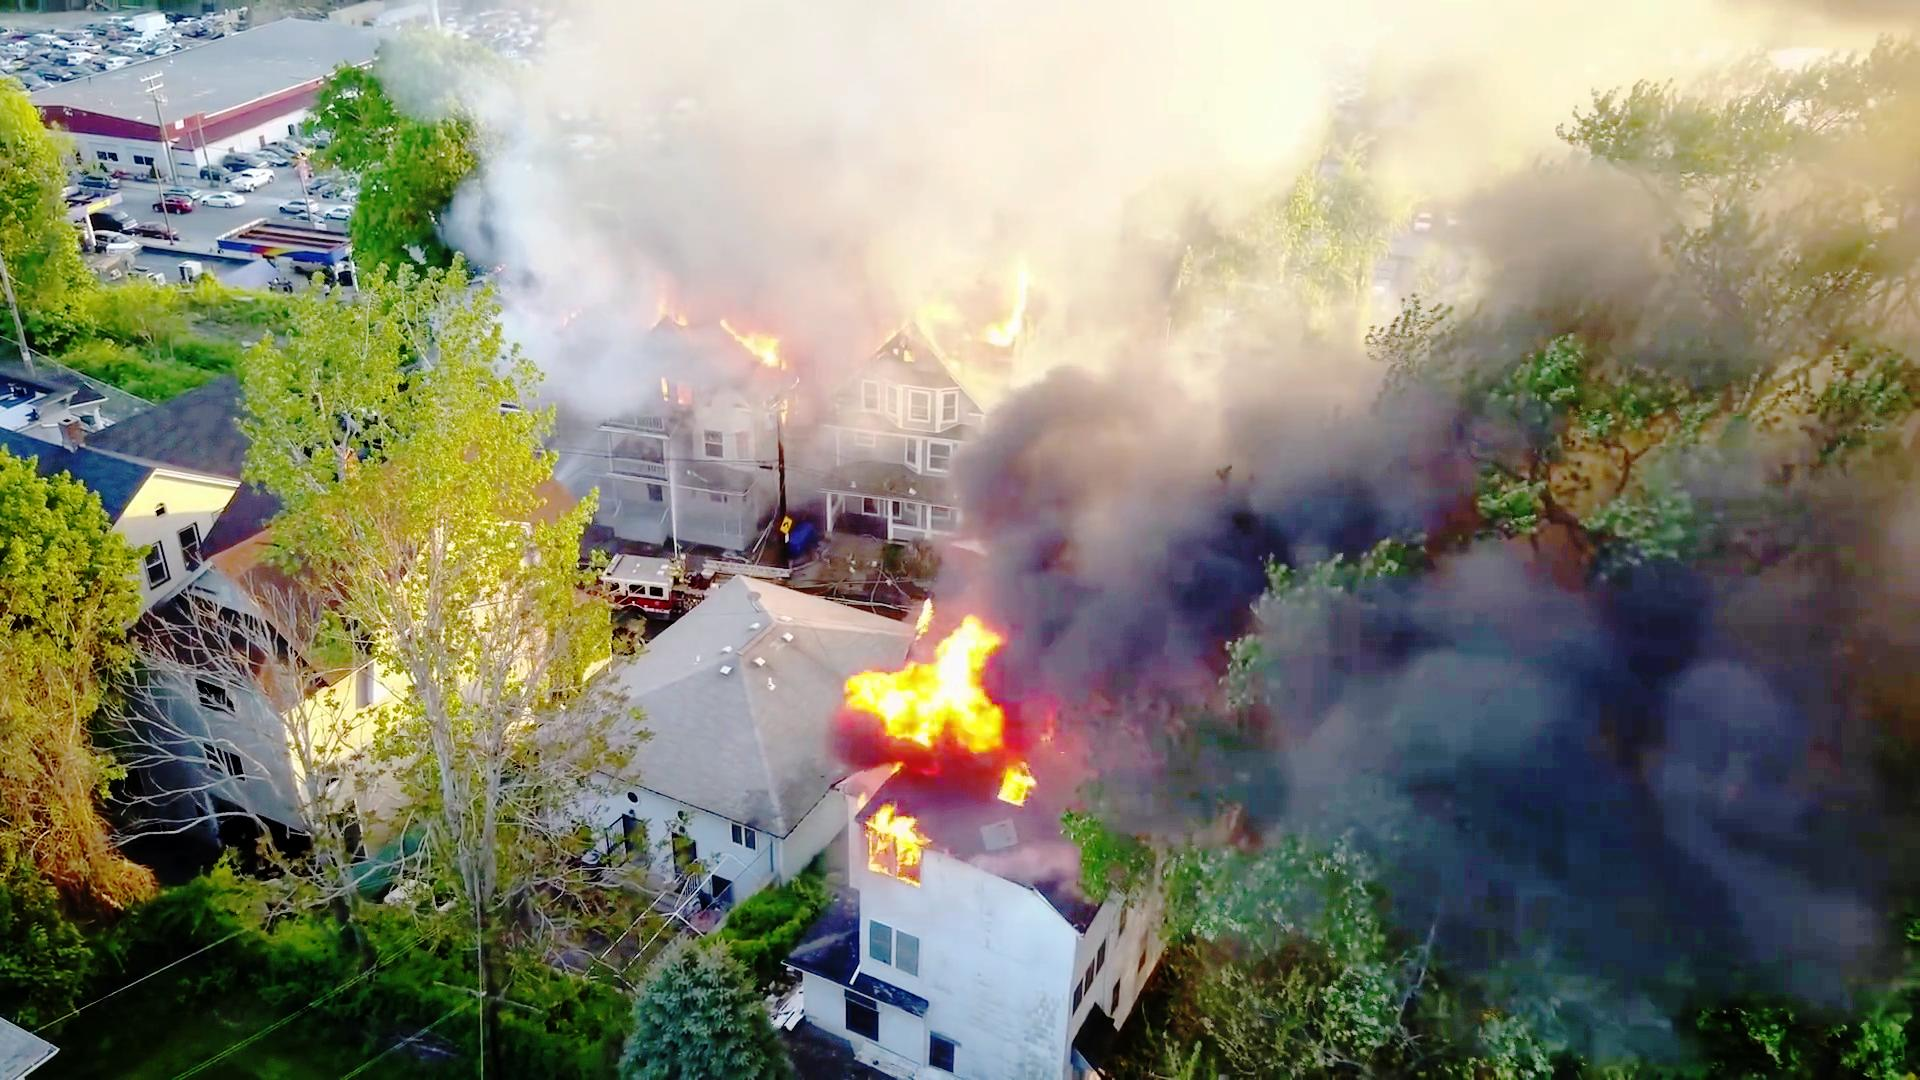fire: (822, 600, 1029, 749)
smoke: (1303, 563, 1859, 940)
